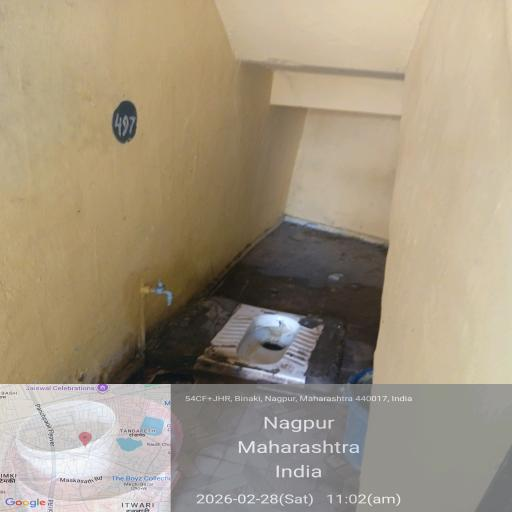clean_floor: (8, 8, 512, 249)
dirty_floor: (67, 344, 421, 512)
dirty_indian: (190, 255, 384, 486)
